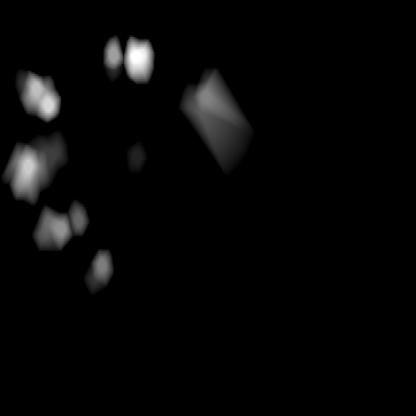fingers: (101, 36, 153, 82)
palm: (15, 67, 110, 286)
